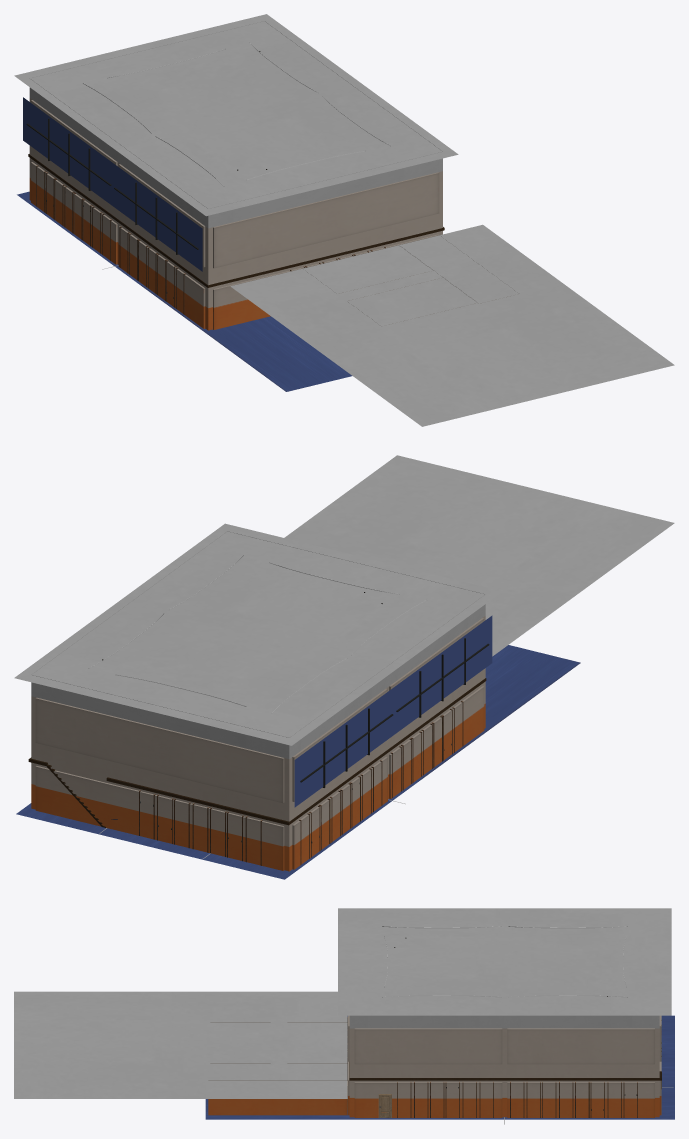
The model's file is SportF.fbx.
The picture shows the model from 3 angles, top to bottom: view 1: azimuth 30°, elevation 25°; view 2: azimuth 150°, elevation 25°; view 3: azimuth 270°, elevation 25°; orthographic projection. The views are drawn at different scales.
Parts seen in each view (by area): view 1: SportPotolok, Sport; view 2: SportPotolok, Sport; view 3: SportPotolok, Sport.
Boxes of the visible parts, x1=… form: SportPotolok: x1=14, y1=14, x2=674, y2=426; Sport: x1=17, y1=21, x2=514, y2=391; SportPotolok: x1=14, y1=455, x2=674, y2=745; Sport: x1=16, y1=531, x2=580, y2=879; SportPotolok: x1=14, y1=908, x2=671, y2=1098; Sport: x1=205, y1=926, x2=674, y2=1124.
Size of the model in its own units: 60.98 by 24.67 by 138.
